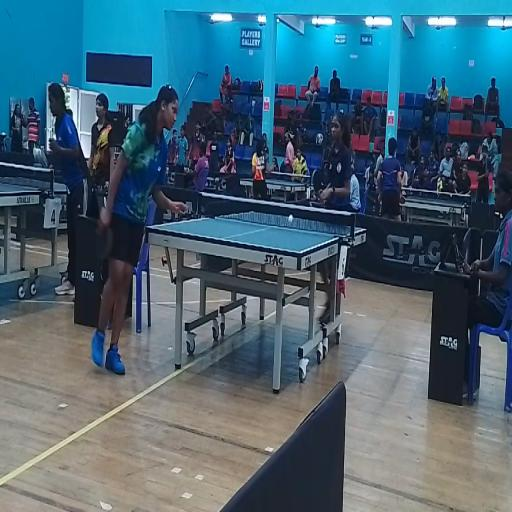ball: (288, 214, 293, 222)
